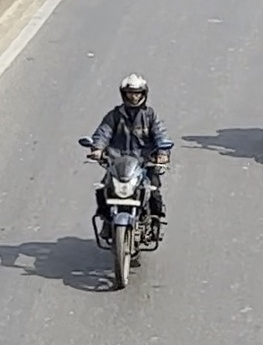BikeWithRider: (74, 72, 174, 290)
Helmet: (118, 73, 150, 111)
